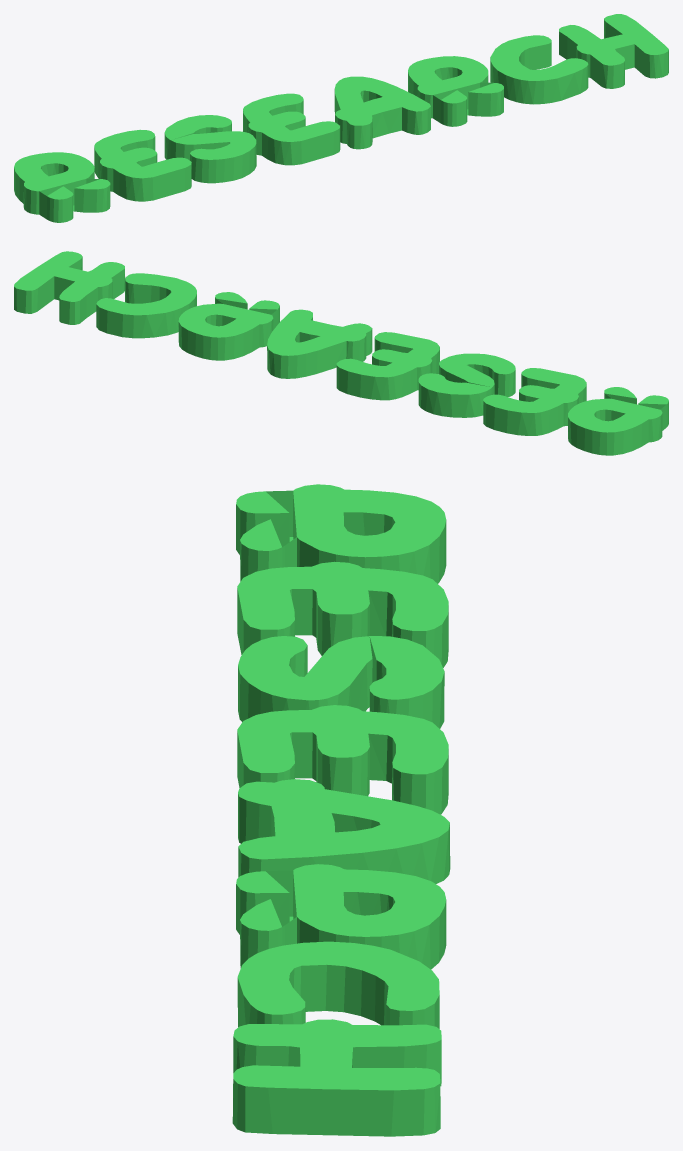
Rendered from Research.fbx.
3 renders of one model, top to bottom at view 1: azimuth 30°, elevation 25°; view 2: azimuth 150°, elevation 25°; view 3: azimuth 270°, elevation 25°, orthographic. The views are drawn at different scales.
Parts seen in each view (by area): view 1: Text; view 2: Text; view 3: Text.
Boxes of the visible parts, x1=… form: Text: x1=14, y1=14, x2=668, y2=222; Text: x1=14, y1=251, x2=668, y2=455; Text: x1=232, y1=484, x2=450, y2=1136.
Size of the model in its own units: 452 by 16.06 by 68.52.
